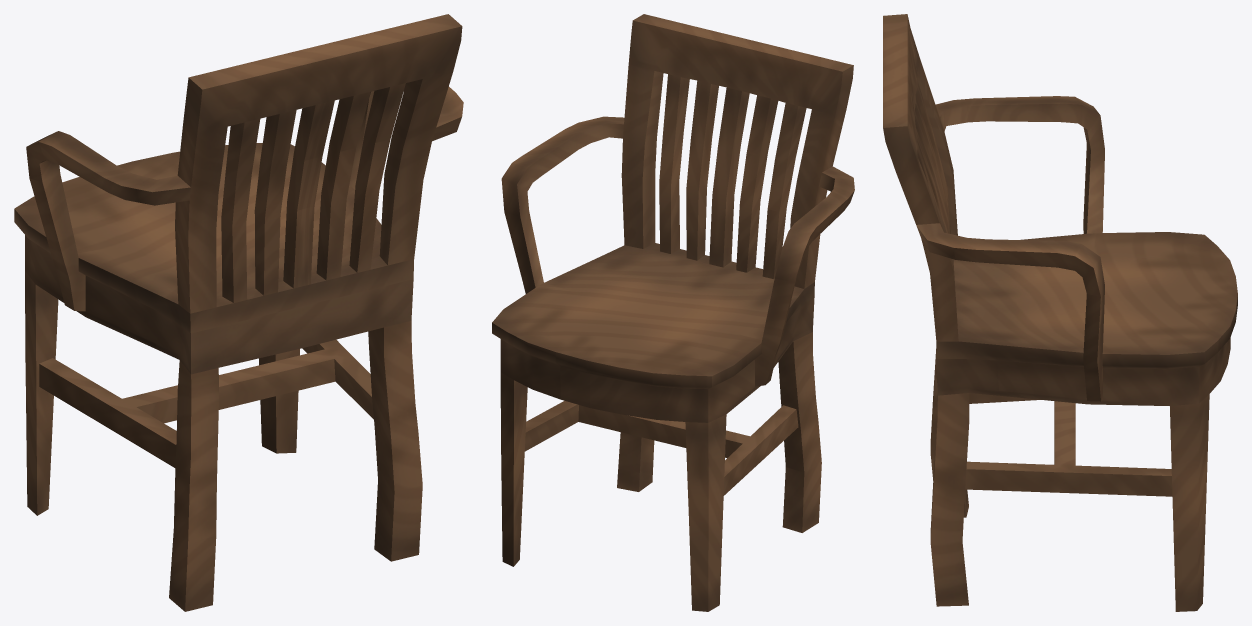
File: InfirmaryChair.fbx
The picture shows the model from 3 angles, left to right: view 1: azimuth 30°, elevation 25°; view 2: azimuth 150°, elevation 25°; view 3: azimuth 270°, elevation 25°; orthographic projection. The views are drawn at different scales.
Parts seen in each view (by area): view 1: deskChair1; view 2: deskChair1; view 3: deskChair1.
Part boxes in pixels (x1,y1,x2,y2): deskChair1: (14, 14, 463, 611); deskChair1: (492, 14, 854, 611); deskChair1: (883, 14, 1237, 611).
Size of the model in its own units: 61.62 by 86.5 by 57.25.
